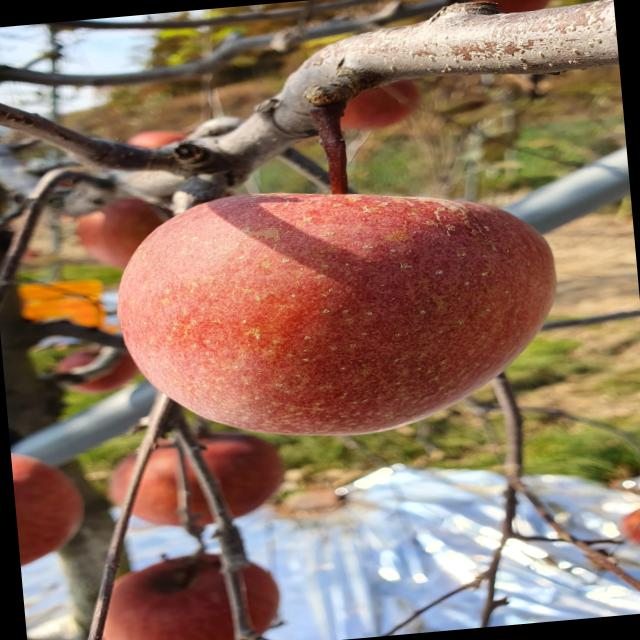fresh: (95, 157, 580, 461)
